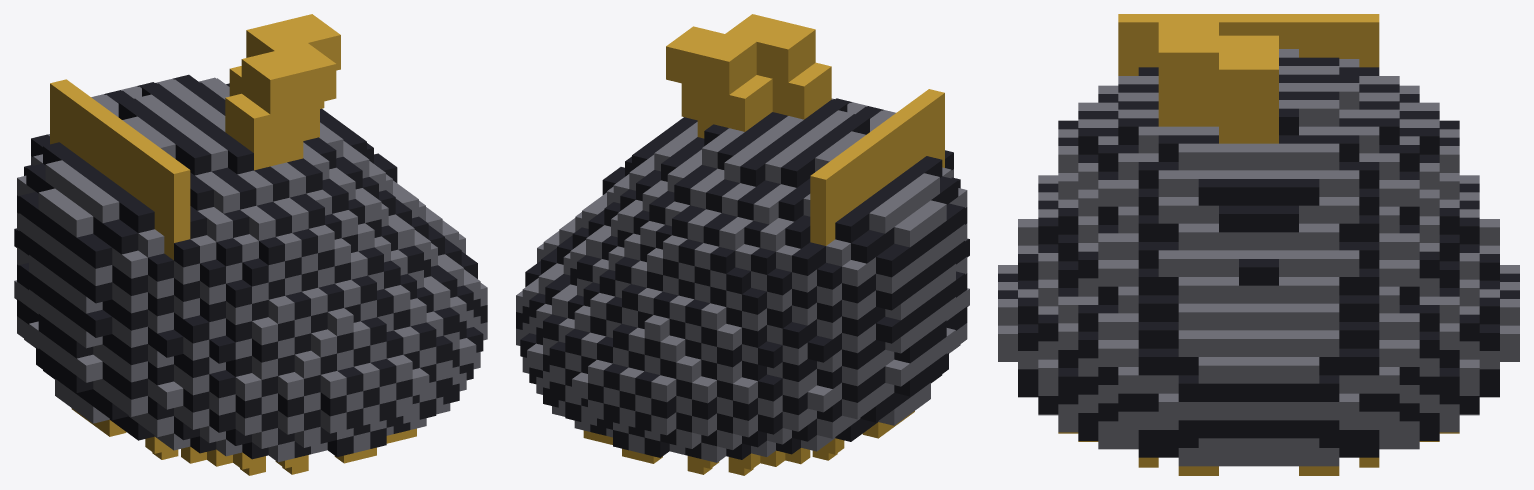
The model's file is chain_epic_shoulder_L.glb.
3 renders of one model, left to right at view 1: azimuth 30°, elevation 25°; view 2: azimuth 150°, elevation 25°; view 3: azimuth 270°, elevation 25°, orthographic. The views are drawn at different scales.
Parts seen in each view (by area): view 1: chain_epic_shoulder_L; view 2: chain_epic_shoulder_L; view 3: chain_epic_shoulder_L.
Part boxes in pixels (<box>): chain_epic_shoulder_L: <box>14,14,487,475</box>; chain_epic_shoulder_L: <box>516,14,969,475</box>; chain_epic_shoulder_L: <box>998,14,1519,475</box>.
Bounding box in the file's own units: 0.276 × 0.252 × 0.312.
